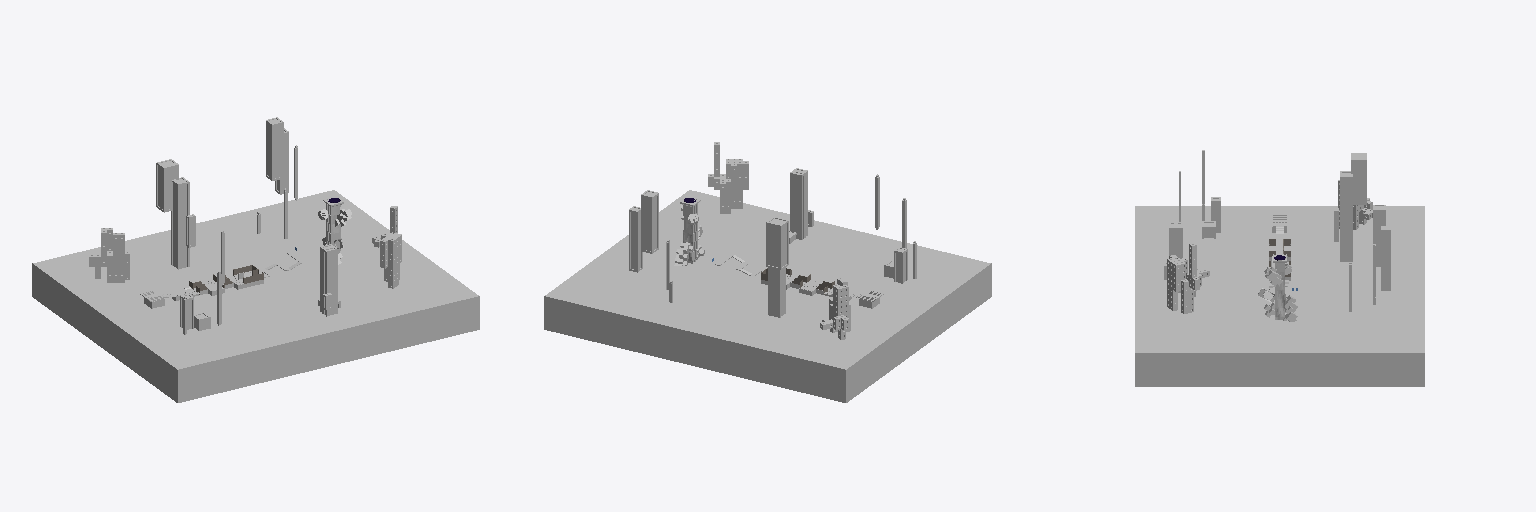
The model's file is DemoLevel1.obj.
The picture shows the model from 3 angles: view 1: azimuth 30°, elevation 25°; view 2: azimuth 150°, elevation 25°; view 3: azimuth 270°, elevation 25°; orthographic projection.
Visible parts, largest first — view 1: Plane.030_Plane.034, Cube.146_Cube.136; view 2: Plane.030_Plane.034, Cube.146_Cube.136, Cube.134_Cube.131; view 3: Plane.030_Plane.034, Cube.146_Cube.136, Cube.150_Cube.130.
Part boxes in pixels (left/top/right/bottom): Plane.030_Plane.034: left=32, top=190, right=479, bottom=402; Cube.146_Cube.136: left=89, top=117, right=401, bottom=334; Plane.030_Plane.034: left=544, top=190, right=991, bottom=402; Cube.146_Cube.136: left=629, top=142, right=916, bottom=339; Cube.134_Cube.131: left=682, top=201, right=700, bottom=263; Plane.030_Plane.034: left=1135, top=206, right=1424, bottom=386; Cube.146_Cube.136: left=1164, top=150, right=1390, bottom=313; Cube.150_Cube.130: left=1264, top=263, right=1297, bottom=321.
Size of the model in its own units: 528 by 274 by 440.